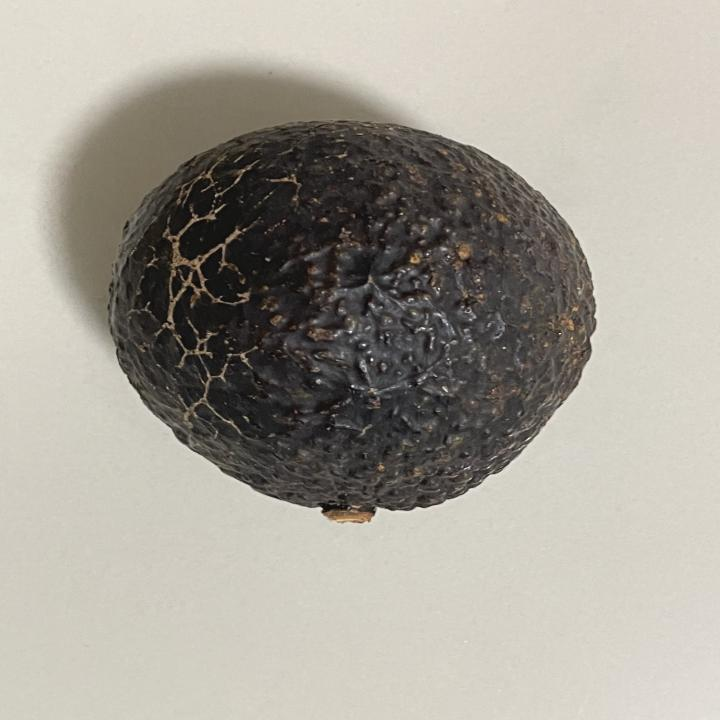Level2: (100, 112, 604, 529)
